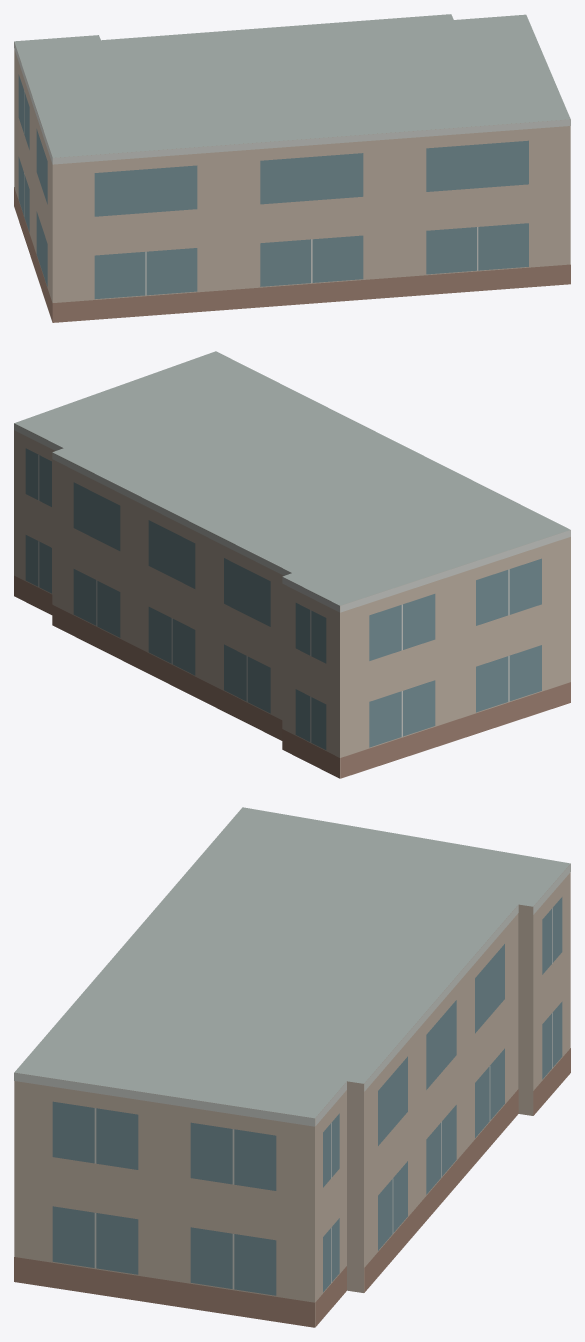
The model's file is survey-upis-32803330.glb.
3 views of the same model, one above another, from view 1: azimuth 30°, elevation 25°; view 2: azimuth 150°, elevation 25°; view 3: azimuth 270°, elevation 25° (orthographic). The views are drawn at different scales.
Parts seen in each view (by area): view 1: survey-upis-32803330.tmp; view 2: survey-upis-32803330.tmp; view 3: survey-upis-32803330.tmp.
Boxes of the visible parts, x1,y1,x2,y2 form: survey-upis-32803330.tmp: [14, 14, 570, 322]; survey-upis-32803330.tmp: [14, 351, 570, 778]; survey-upis-32803330.tmp: [14, 807, 570, 1327].
Size of the model in its own units: 19.46 by 6.1 by 14.71.
